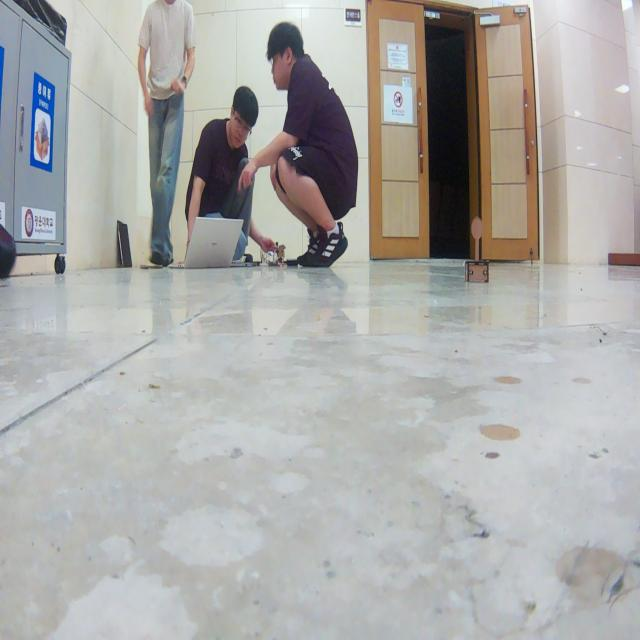target: (464, 216, 489, 284)
